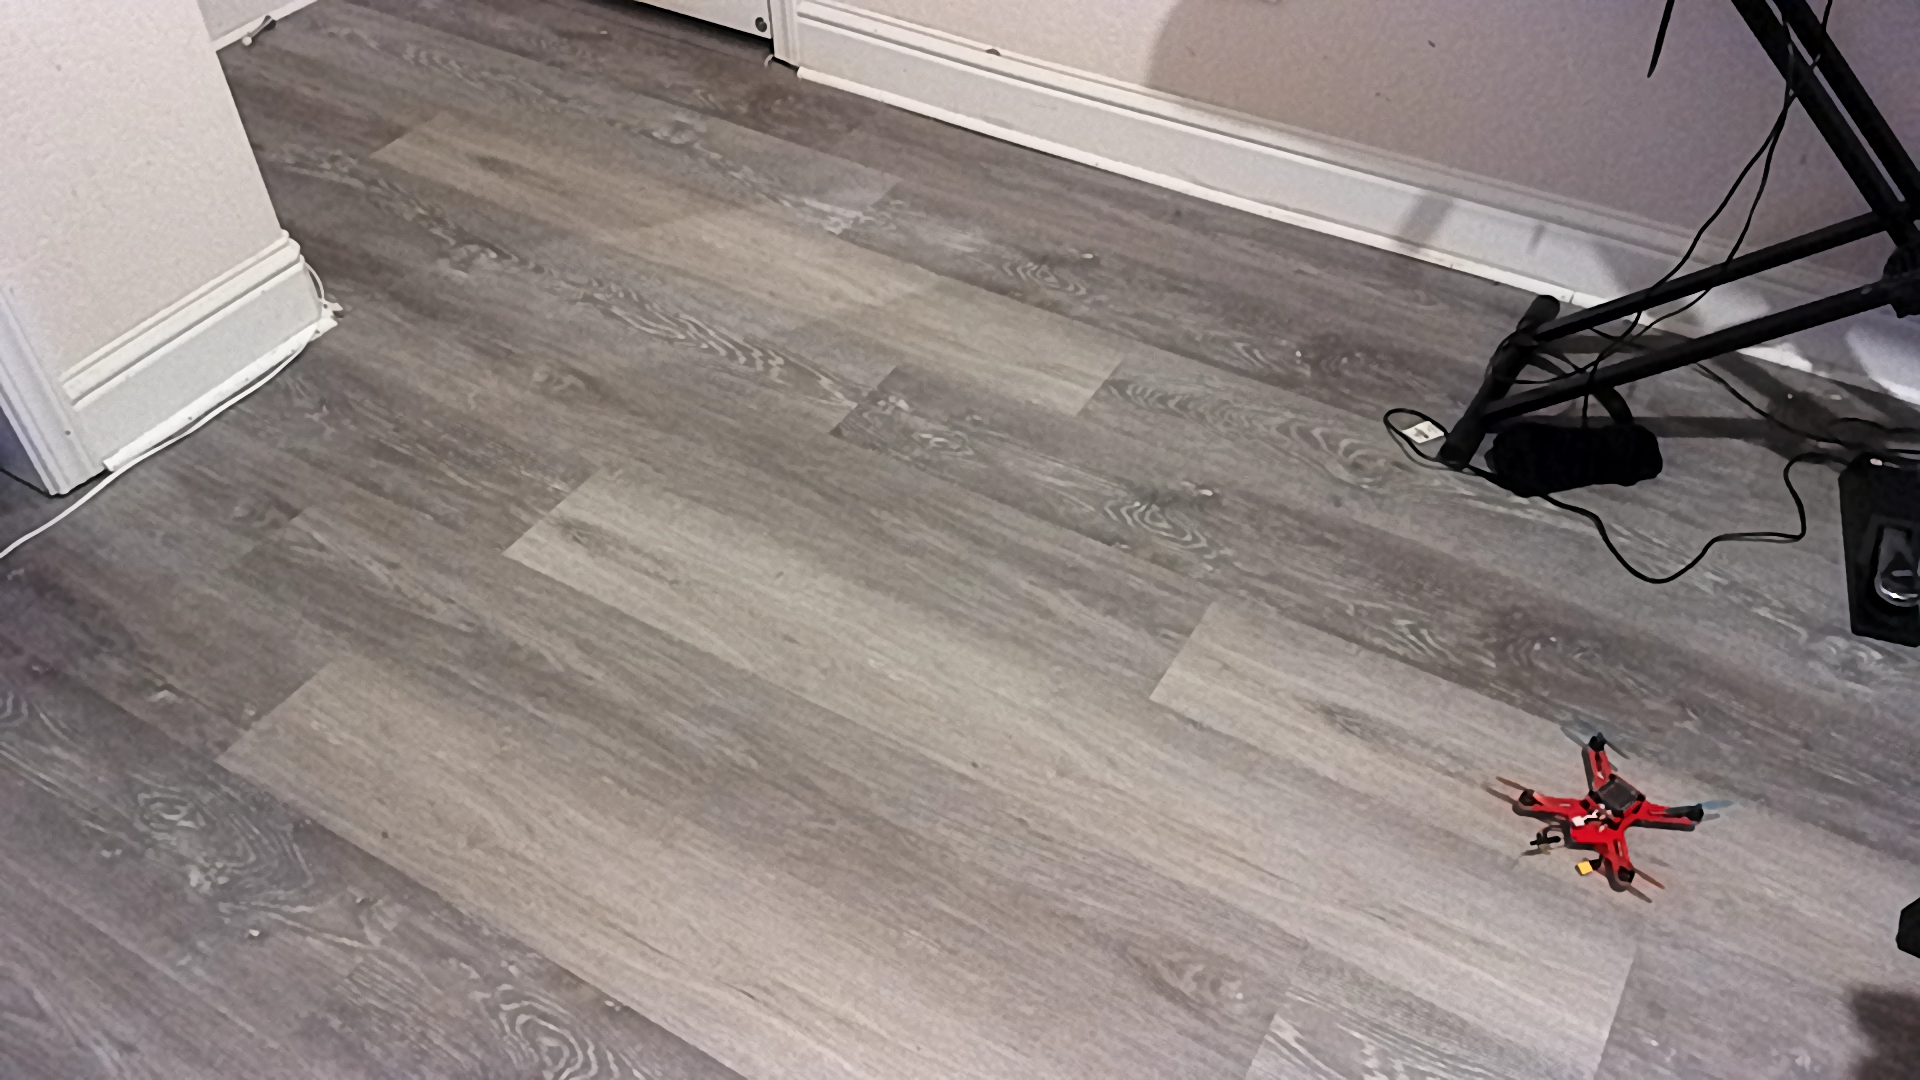drone: (1484, 708, 1750, 932)
